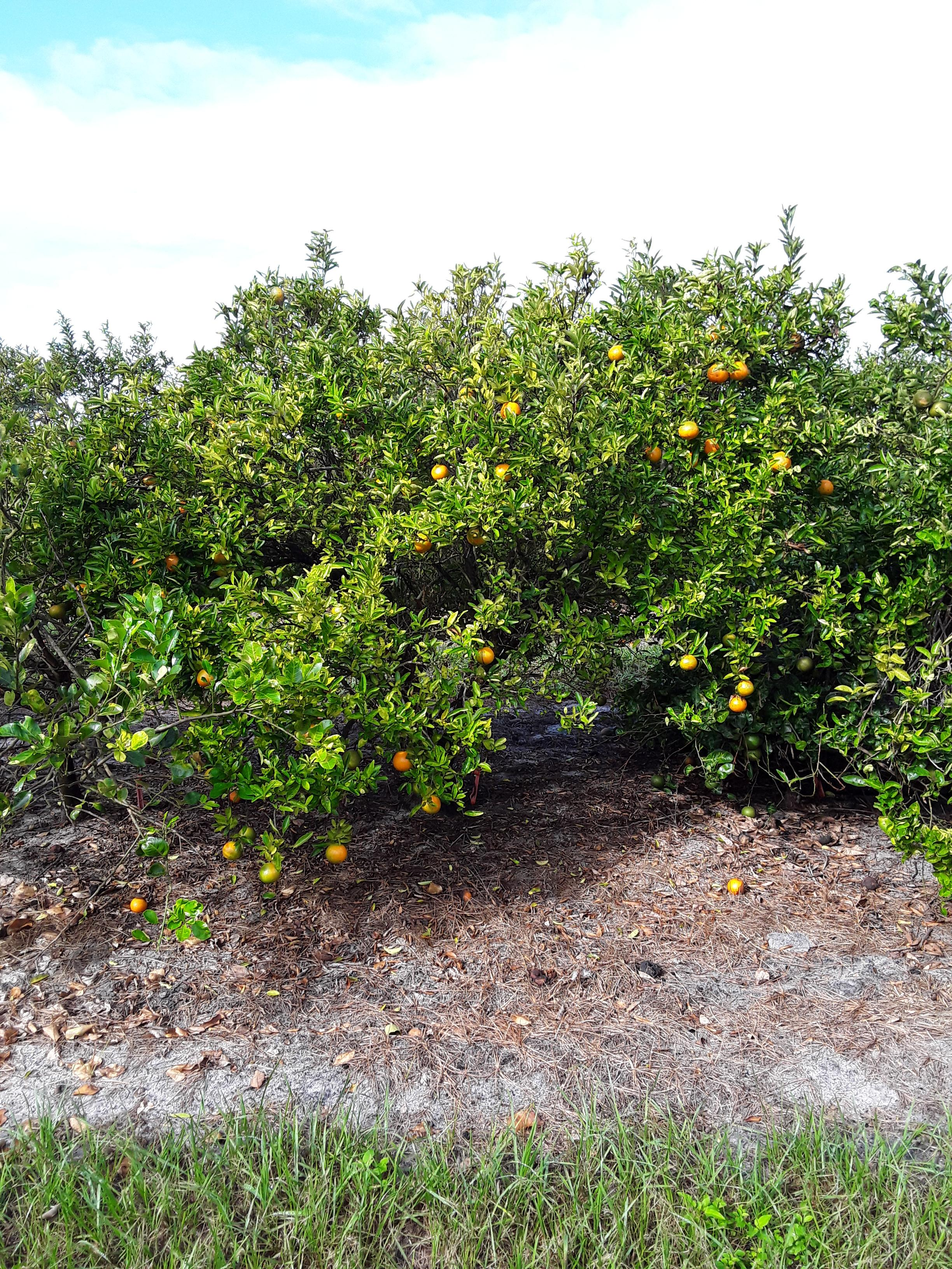fruit_on_ground: (297, 717, 326, 744), (909, 385, 934, 410), (339, 746, 364, 771), (769, 449, 794, 474), (410, 531, 435, 555), (781, 330, 806, 354), (193, 665, 218, 689), (324, 841, 349, 865), (390, 749, 415, 773), (705, 360, 730, 384), (257, 862, 282, 886), (728, 358, 752, 382), (464, 523, 489, 546), (927, 397, 950, 421), (220, 838, 243, 862), (498, 399, 523, 421), (420, 792, 443, 815), (681, 449, 703, 473), (676, 419, 700, 441), (642, 442, 665, 464), (815, 476, 837, 498), (492, 460, 515, 481), (706, 323, 730, 343), (223, 417, 244, 439), (794, 653, 816, 674), (677, 651, 699, 672), (161, 551, 182, 573), (734, 676, 756, 697), (474, 645, 496, 666), (726, 694, 748, 715), (332, 403, 355, 423), (69, 579, 93, 598), (429, 461, 451, 481), (606, 341, 626, 362), (743, 731, 763, 751), (702, 435, 722, 455), (266, 284, 286, 304), (719, 629, 740, 648), (46, 601, 67, 620), (742, 744, 764, 762), (648, 772, 667, 791), (328, 600, 347, 618), (738, 802, 757, 820), (239, 824, 258, 842), (140, 470, 159, 488), (175, 498, 193, 516), (63, 435, 80, 453), (128, 553, 147, 569), (592, 693, 608, 708), (156, 586, 171, 601), (141, 564, 155, 579)
fruit_on_tree: (506, 1106, 541, 1140), (636, 958, 665, 978), (126, 893, 150, 915), (724, 874, 746, 897), (859, 873, 882, 891), (225, 787, 244, 806), (459, 887, 474, 904)
